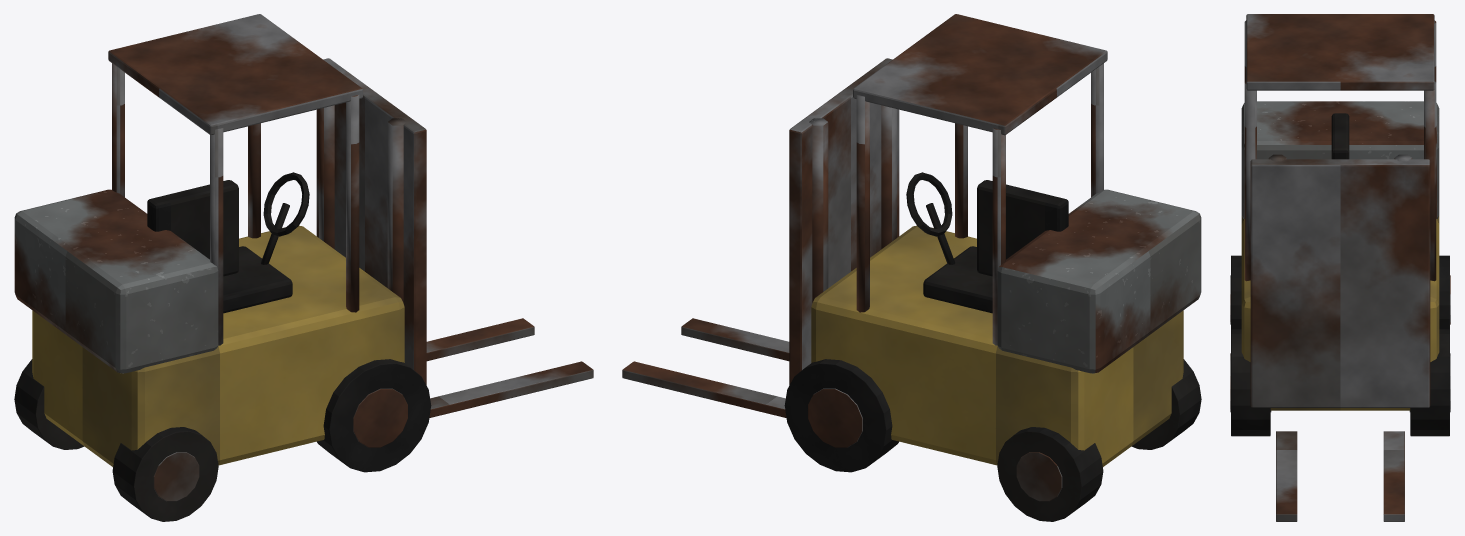
File: V04_forklift.glb
3 renders of one model, left to right at view 1: azimuth 30°, elevation 25°; view 2: azimuth 150°, elevation 25°; view 3: azimuth 270°, elevation 25°, orthographic. The views are drawn at different scales.
Visible parts, largest first — view 1: V04_forklift; view 2: V04_forklift; view 3: V04_forklift.
Part boxes in pixels (bbox=[...]): V04_forklift: bbox=[14, 14, 593, 521]; V04_forklift: bbox=[622, 14, 1201, 521]; V04_forklift: bbox=[1230, 14, 1450, 521].
Size of the model in its own units: 3 by 2.2 by 1.27.
Materials: 5 (5 with a texture image).
